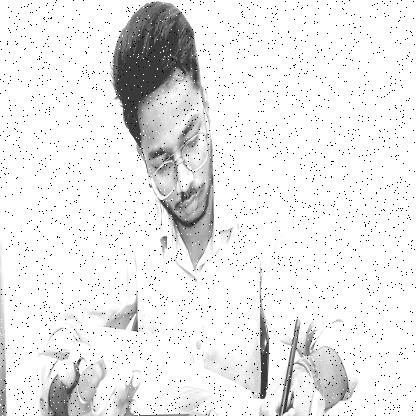Distracted: (110, 3, 218, 235)
